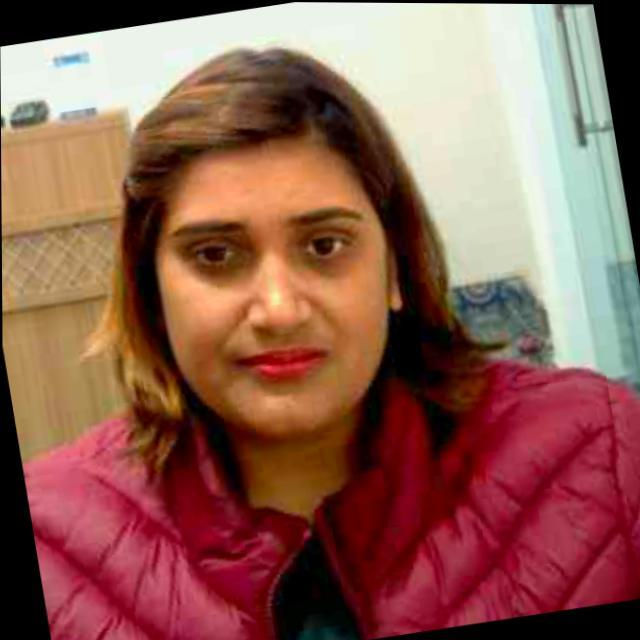Puffy Eyes - v3 Dark Circle: (187, 246, 261, 285), (292, 254, 359, 279)
